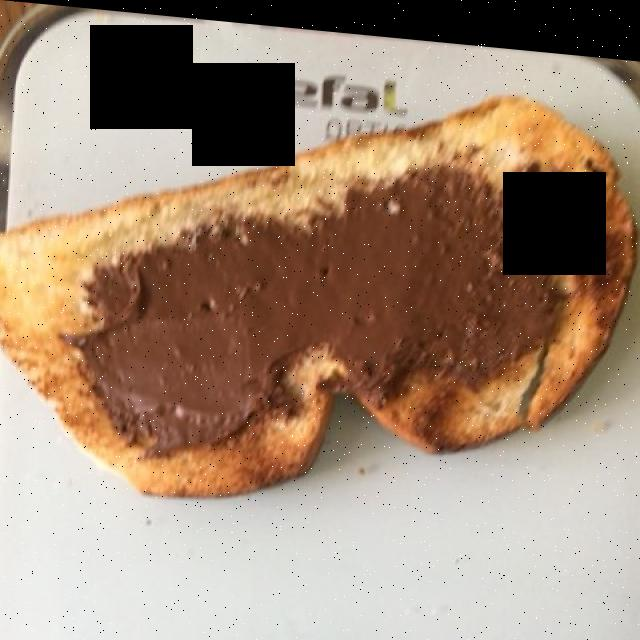braided-white-loaf: (9, 92, 626, 492)
hazelnut-chocolate-spread-nutella-ovomaltine-caotina: (62, 171, 584, 452)
